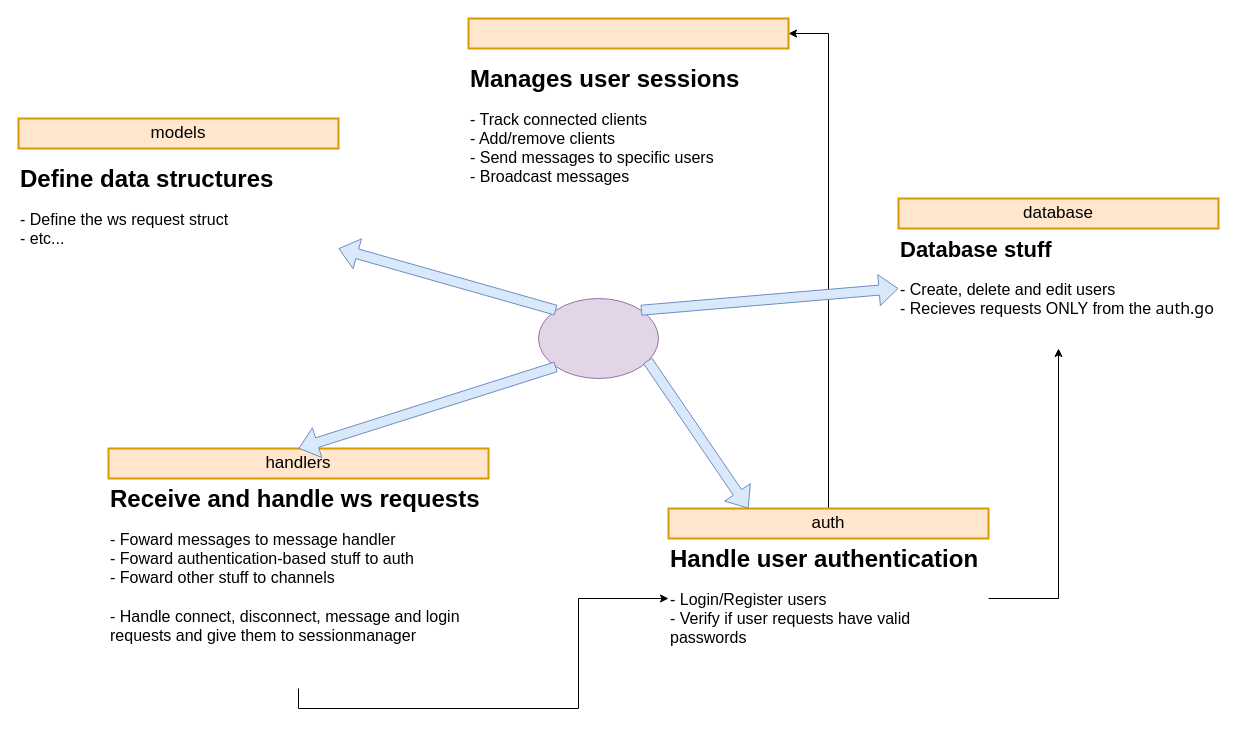
Some shapes in this 1236 by 734 pixel diagram are drawn without their labels. Each missing label, with the box of its shape:
main.go: (538, 298, 658, 378)
sessionmanager: (467, 17, 789, 49)
